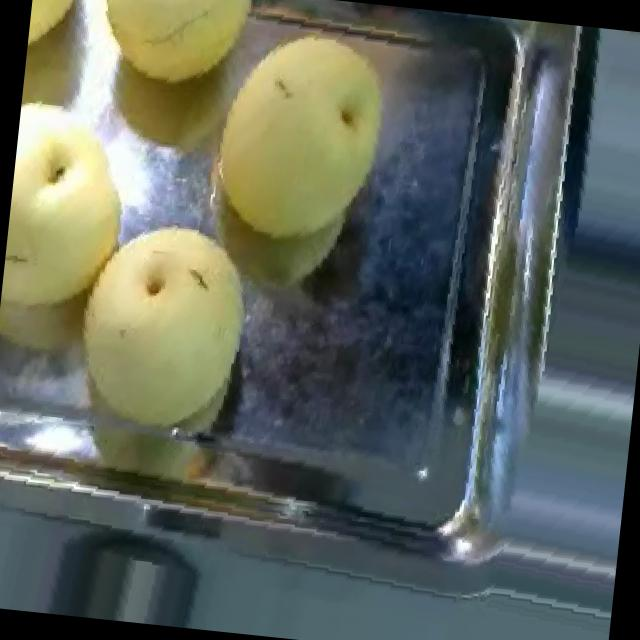Fruit: (50, 196, 266, 452), (192, 12, 409, 257), (0, 94, 149, 332), (65, 0, 272, 109), (23, 0, 103, 91)
